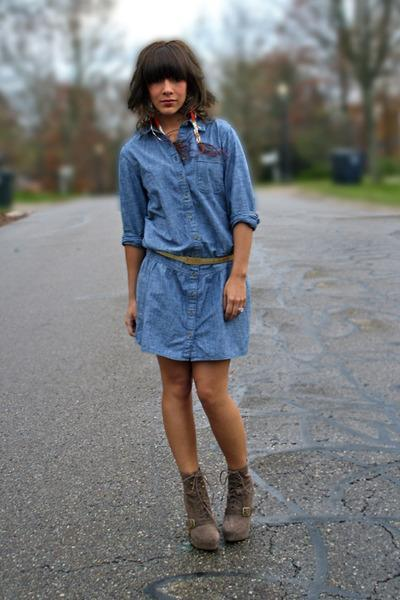dress: (108, 118, 259, 364)
shoe: (181, 462, 268, 560)
